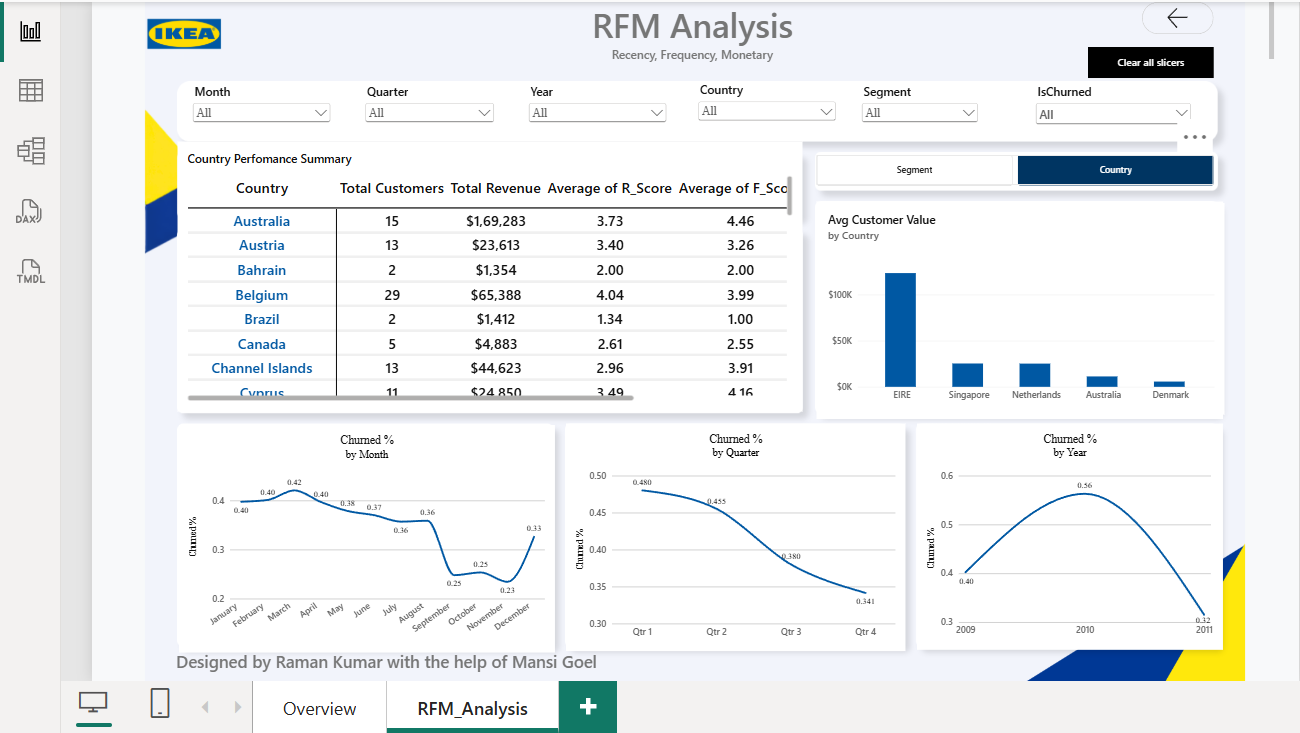

Layout of this report page (visuals, bound fields, positions):
{"tool":"powerbi","page":{"name":"RFM_Analysis","canvas":[1920,1080],"ordinal":1},"visuals":[{"type":"slicer","fields":{"Values":["Sheet1.Segment"]},"box":[1218.8,128.6,195.3,91.5],"z":0},{"type":"lineChart","fields":{"Category":["Sheet1.InvoiceDate.Variation.Date Hierarchy.Month"],"Y":["Sheet1.Churned %"]},"box":[137.8,673.3,597.8,362.2],"z":0,"group":"g1"},{"type":"slicer","fields":{"Values":["Sheet1.Country"]},"box":[959.2,126.1,229,90.7],"z":1000},{"type":"lineChart","fields":{"Category":["Sheet1.InvoiceDate.Variation.Date Hierarchy.Quarter"],"Y":["Sheet1.Churned %"]},"box":[753.4,671.1,540,362.2],"z":1000,"group":"g1"},{"type":"slicer","fields":{"Values":["Sheet1.InvoiceDate.Variation.Date Hierarchy.Year"]},"box":[689.7,128.6,229,90.7],"z":2000},{"type":"lineChart","fields":{"Category":["Sheet1.InvoiceDate.Variation.Date Hierarchy.Year"],"Y":["Sheet1.Churned %"]},"box":[1311.1,671.1,486.7,360],"z":2000,"group":"g1"},{"type":"slicer","fields":{"Values":["Sheet1.InvoiceDate.Variation.Date Hierarchy.Quarter"]},"box":[430.2,128.6,214.7,90.7],"z":3000},{"type":"slicer","fields":{"Values":["Sheet1.InvoiceDate.Variation.Date Hierarchy.Month"]},"box":[155.1,128.8,229,90.7],"z":4000},{"type":"group","id":"g1","title":"Customers","box":[137.8,671.1,1660,364.4],"z":5000},{"type":"slicer","fields":{"Values":["Sheet1.IsChurned"]},"box":[1495.6,128.6,257.1,93.9],"z":7000},{"type":"textbox","box":[39.1,0,1841.7,101.4],"z":8000},{"type":"image","box":[39.6,0,212.6,101.4],"z":9000},{"type":"textbox","box":[126.1,1030.9,719.4,49.4],"z":10000},{"type":"actionButton","box":[1671.2,0,113.7,51],"z":11000},{"type":"actionButton","box":[1584.6,71.7,200.2,49.4],"z":12000},{"type":"bookmarkNavigator","box":[1152,242.3,632.9,49.4],"z":13000},{"type":"pivotTable","title":"Country Perfomance Summary","fields":{"Rows":["Sheet1.Country"],"Values":["Sheet1.Total Customers","Sheet1.Total Revenue","Avg(Sheet1.R_Score)","Avg(Sheet1.F_Score)","Avg(Sheet1.M_Score)"]},"box":[136,222.5,994.3,428.6],"z":15000},{"type":"columnChart","fields":{"Category":["Sheet1.Segment"],"Y":["Sheet1.Avg Customer Value"]},"box":[1152.4,317.3,646.6,346],"z":16000},{"type":"columnChart","fields":{"Category":["Sheet1.Country"],"Y":["Sheet1.Avg Customer Value"]},"box":[1153.8,319.7,646.6,336.4],"z":17001}]}

Visuals, with their boxes on the page's 1920x1080 design canvas (x1, y1, x2, y2). These are canvas units, not pixel positions in the 1300x733 screenshot, which may show the page scaled, cropped or inside an application window:
slicer - Sheet1.Segment: crop(1219, 129, 1414, 220)
lineChart - Sheet1.InvoiceDate.Variation.Date Hierarchy.Month x Sheet1.Churned %: crop(138, 673, 736, 1036)
slicer - Sheet1.Country: crop(959, 126, 1188, 217)
lineChart - Sheet1.InvoiceDate.Variation.Date Hierarchy.Quarter x Sheet1.Churned %: crop(753, 671, 1293, 1033)
slicer - Sheet1.InvoiceDate.Variation.Date Hierarchy.Year: crop(690, 129, 919, 219)
lineChart - Sheet1.InvoiceDate.Variation.Date Hierarchy.Year x Sheet1.Churned %: crop(1311, 671, 1798, 1031)
slicer - Sheet1.InvoiceDate.Variation.Date Hierarchy.Quarter: crop(430, 129, 645, 219)
slicer - Sheet1.InvoiceDate.Variation.Date Hierarchy.Month: crop(155, 129, 384, 220)
"Customers" group: crop(138, 671, 1798, 1036)
slicer - Sheet1.IsChurned: crop(1496, 129, 1753, 222)
textbox: crop(39, 0, 1881, 101)
image: crop(40, 0, 252, 101)
textbox: crop(126, 1031, 846, 1080)
actionButton: crop(1671, 0, 1785, 51)
actionButton: crop(1585, 72, 1785, 121)
bookmarkNavigator: crop(1152, 242, 1785, 292)
"Country Perfomance Summary" pivotTable: crop(136, 222, 1130, 651)
columnChart - Sheet1.Segment x Sheet1.Avg Customer Value: crop(1152, 317, 1799, 663)
columnChart - Sheet1.Country x Sheet1.Avg Customer Value: crop(1154, 320, 1800, 656)
